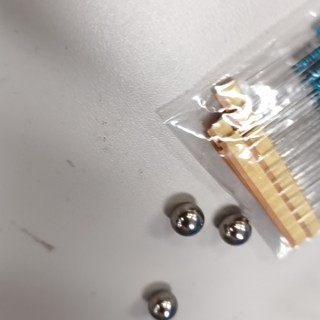ironball: (208, 203, 252, 256), (172, 192, 206, 241), (142, 286, 186, 318)
